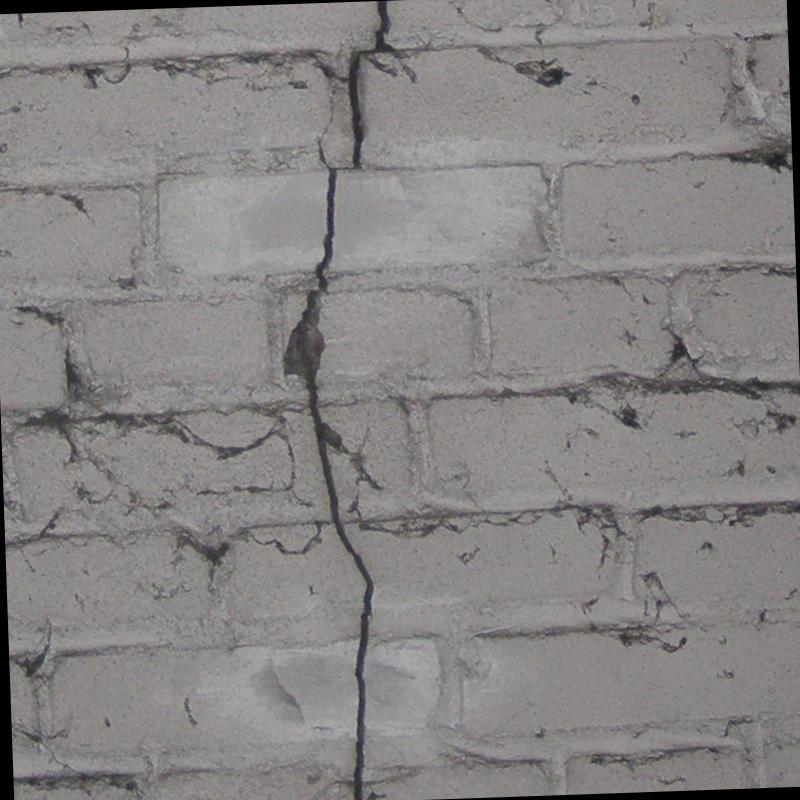crack: (281, 0, 398, 800)
